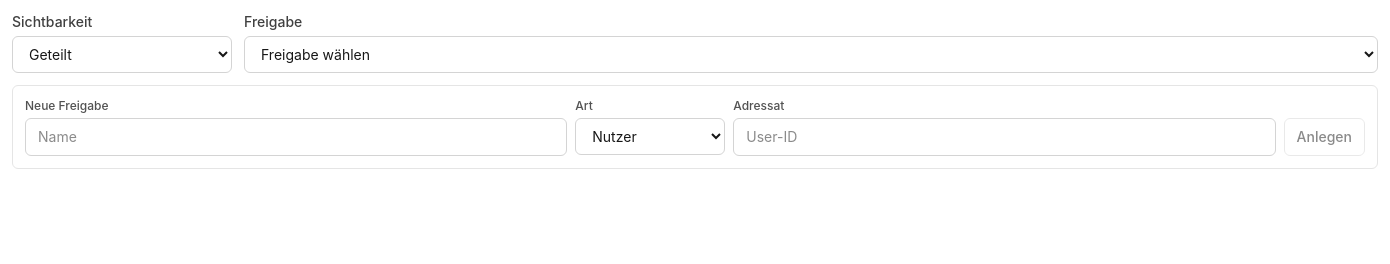
Test case: VisibilityAccessField › creates link grants without an address and shows the generated token once
Select "Link" in the dropdown labelled "Art" at point(650, 136), box [575,118,725,155]
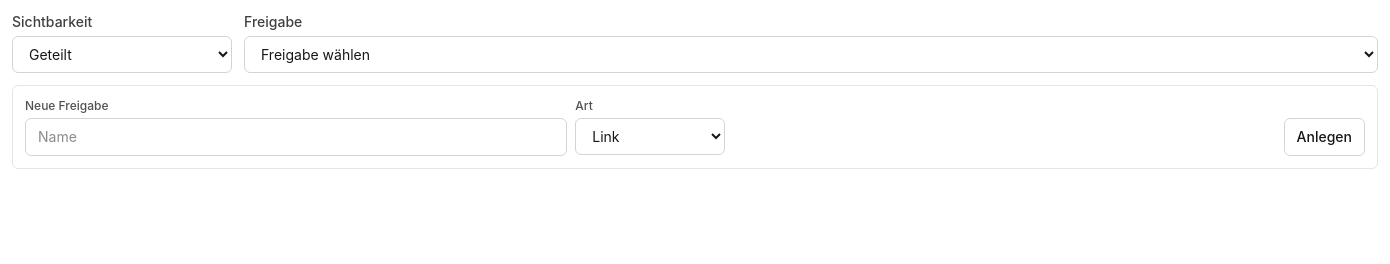
Expected: the text labelled "Adressat" is gone
Expected: the button "Anlegen" is enabled
Click the button "Anlegen" at point(1324, 137), box [1284,118,1365,156]
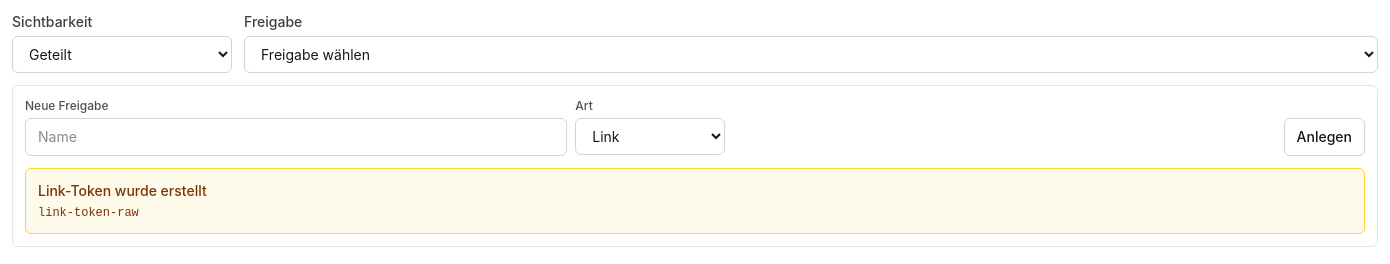
Expected: the text "link-token-raw" is shown, [38,206,139,220]
